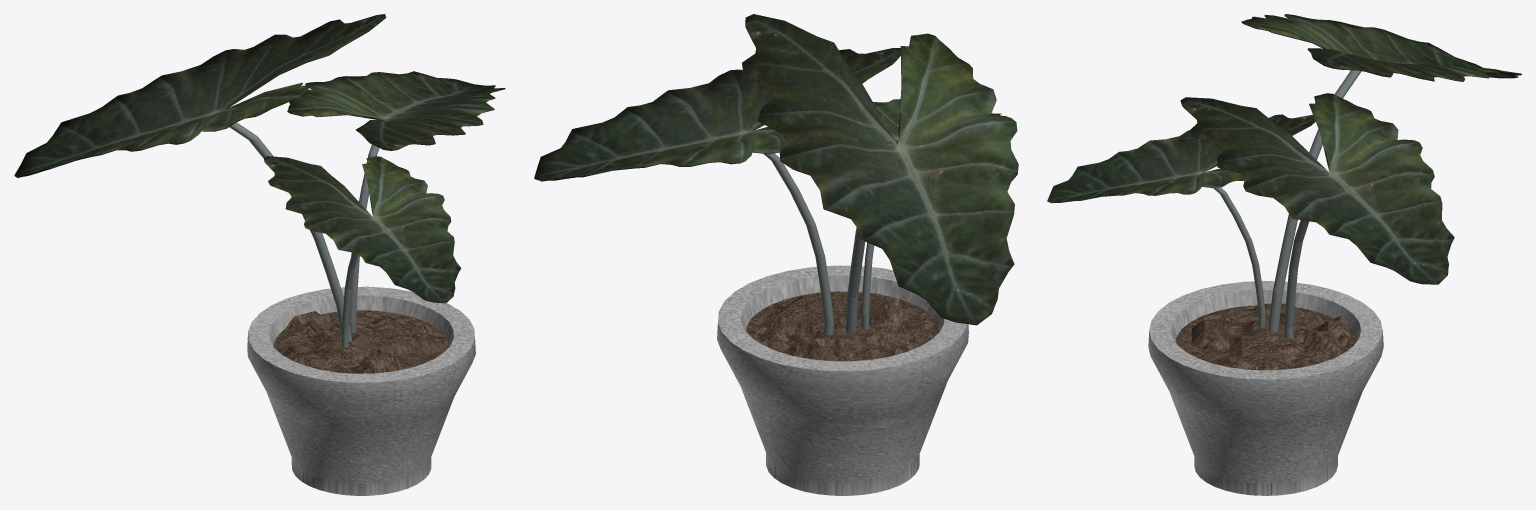
Rendered from Ear Elephant.fbx.
The picture shows the model from 3 angles, left to right: view 1: azimuth 30°, elevation 25°; view 2: azimuth 150°, elevation 25°; view 3: azimuth 270°, elevation 25°; orthographic projection. The views are drawn at different scales.
Parts seen in each view (by area): view 1: Cylinder, Plane, Cylinder.001, Plane.002, Plane.001; view 2: Plane, Cylinder, Plane.002, Plane.001, Cylinder.001; view 3: Cylinder, Plane.002, Plane, Cylinder.001, Plane.001.
Boxes of the visible parts, bbox=[...] form: Cylinder: bbox=[247, 286, 475, 495]; Plane: bbox=[14, 14, 386, 341]; Cylinder.001: bbox=[264, 156, 461, 347]; Plane.002: bbox=[287, 71, 505, 333]; Plane.001: bbox=[273, 310, 449, 373]; Plane: bbox=[742, 14, 1018, 332]; Cylinder: bbox=[717, 265, 968, 495]; Plane.002: bbox=[534, 48, 900, 335]; Plane.001: bbox=[746, 291, 939, 361]; Cylinder.001: bbox=[861, 99, 1007, 329]; Cylinder: bbox=[1148, 281, 1383, 495]; Plane.002: bbox=[1180, 93, 1454, 338]; Plane: bbox=[1241, 14, 1521, 332]; Cylinder.001: bbox=[1047, 114, 1315, 327]; Plane.001: bbox=[1175, 303, 1356, 370].
Size of the model in its own units: 146 by 130 by 131.
Materials: 8 (5 with a texture image).
